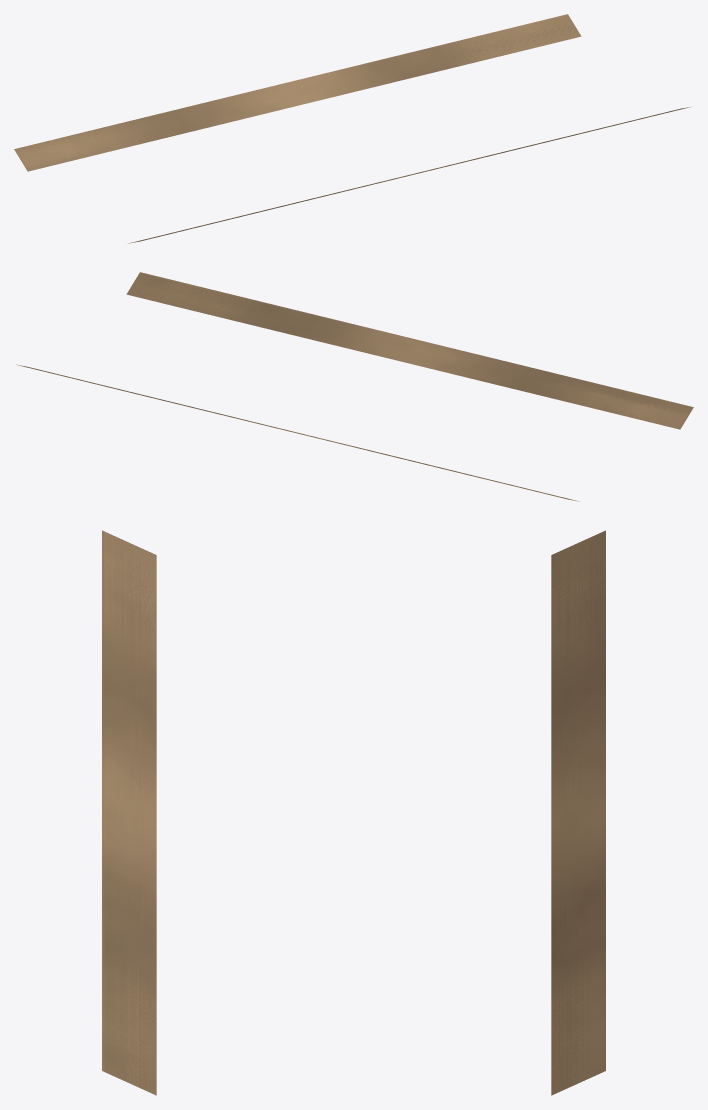
The model's file is qingnian-z1-terrain.glb.
3 renders of one model, top to bottom at view 1: azimuth 30°, elevation 25°; view 2: azimuth 150°, elevation 25°; view 3: azimuth 270°, elevation 25°, orthographic. The views are drawn at different scales.
Visible parts, largest first — view 1: QIN_TERRAIN_slope_L_01, QIN_TERRAIN_slope_R_01; view 2: QIN_TERRAIN_slope_R_01, QIN_TERRAIN_slope_L_01; view 3: QIN_TERRAIN_slope_L_01, QIN_TERRAIN_slope_R_01.
Part boxes in pixels (<box>): QIN_TERRAIN_slope_L_01: <box>14,14,581,171</box>; QIN_TERRAIN_slope_R_01: <box>128,106,691,243</box>; QIN_TERRAIN_slope_R_01: <box>126,272,693,429</box>; QIN_TERRAIN_slope_L_01: <box>16,364,579,501</box>; QIN_TERRAIN_slope_L_01: <box>551,530,605,1095</box>; QIN_TERRAIN_slope_R_01: <box>102,530,156,1095</box>.
Bounding box in the file's own units: 1041 × 22.32 × 410.
Materials: 1 (1 with a texture image).
